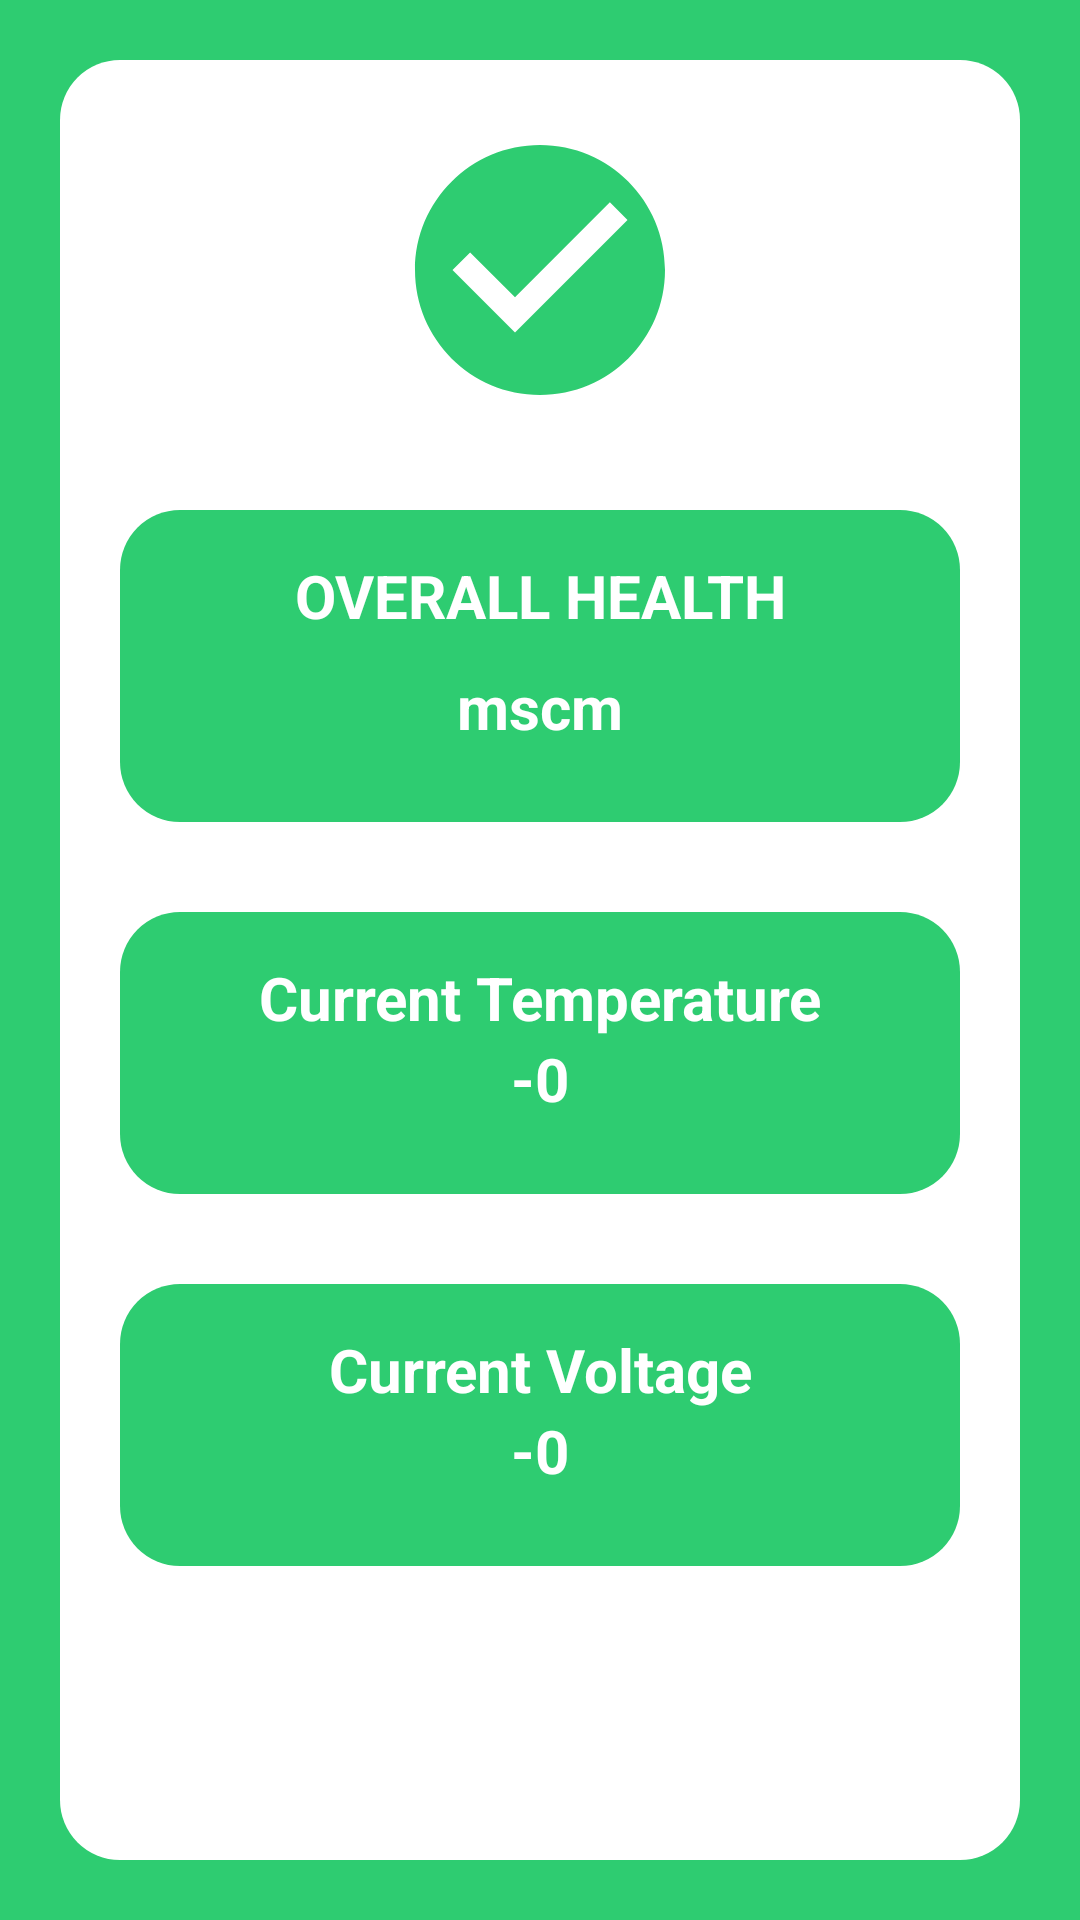

Where icons sit on this 1080x1920 app screen, as {"left": x1, "top": y1, "right": x2, "bottom": y2}:
check circle: {"left": 415, "top": 145, "right": 665, "bottom": 395}
